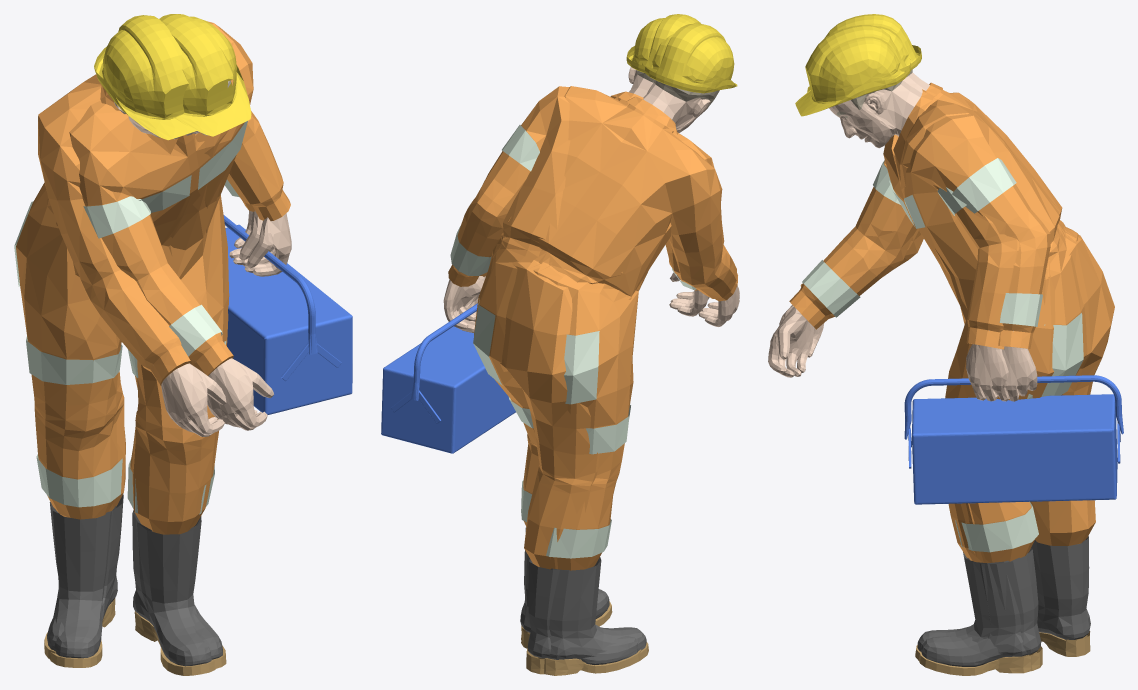
Rendered from funcionarios.glb.
The picture shows the model from 3 angles, left to right: view 1: azimuth 30°, elevation 25°; view 2: azimuth 150°, elevation 25°; view 3: azimuth 270°, elevation 25°; orthographic projection. The views are drawn at different scales.
Visible parts, largest first — view 1: funcionario_maleta__auto_16, funcionario__auto_16, funcionario_maleta__auto_19, funcionario_maleta__auto_17, funcionario_maleta__auto_14, funcionario__auto_14, funcionario__auto_11, funcionario_maleta__auto_11, funcionario__auto_12, funcionario_maleta__auto_12, funcionario_maleta__auto_18, funcionario__auto_18; view 2: funcionario__auto_16, funcionario_maleta__auto_16, funcionario_maleta__auto_19, funcionario_maleta__auto_17, funcionario_maleta__auto_14, funcionario__auto_11, funcionario__auto_14, funcionario__auto_12, funcionario_maleta__auto_12, funcionario_maleta__auto_11, funcionario__auto_18, funcionario_maleta__auto_18 (+1 smaller); view 3: funcionario_maleta__auto_16, funcionario_maleta__auto_19, funcionario__auto_16, funcionario_maleta__auto_17, funcionario__auto_14, funcionario_maleta__auto_12, funcionario_maleta__auto_11, funcionario_maleta__auto_14, funcionario__auto_12, funcionario__auto_11, funcionario__auto_18, funcionario_maleta__auto_18.
Boxes of the visible parts, bbox=[...] form: funcionario_maleta__auto_16: bbox=[16, 21, 254, 519]; funcionario__auto_16: bbox=[38, 74, 290, 534]; funcionario_maleta__auto_19: bbox=[223, 215, 352, 414]; funcionario_maleta__auto_17: bbox=[14, 121, 247, 514]; funcionario_maleta__auto_14: bbox=[49, 502, 222, 659]; funcionario__auto_14: bbox=[47, 494, 211, 666]; funcionario__auto_11: bbox=[94, 15, 196, 140]; funcionario_maleta__auto_11: bbox=[159, 14, 251, 136]; funcionario__auto_12: bbox=[114, 102, 291, 436]; funcionario_maleta__auto_12: bbox=[185, 131, 274, 430]; funcionario_maleta__auto_18: bbox=[49, 611, 226, 668]; funcionario__auto_18: bbox=[44, 598, 215, 675]; funcionario__auto_16: bbox=[474, 86, 737, 569]; funcionario_maleta__auto_16: bbox=[448, 86, 714, 570]; funcionario_maleta__auto_19: bbox=[381, 303, 515, 453]; funcionario_maleta__auto_17: bbox=[450, 125, 696, 558]; funcionario_maleta__auto_14: bbox=[520, 527, 646, 659]; funcionario__auto_11: bbox=[642, 23, 737, 93]; funcionario__auto_14: bbox=[520, 559, 638, 665]; funcionario__auto_12: bbox=[459, 82, 739, 326]; funcionario_maleta__auto_12: bbox=[443, 67, 709, 332]; funcionario_maleta__auto_11: bbox=[626, 14, 700, 72]; funcionario__auto_18: bbox=[521, 601, 641, 674]; funcionario_maleta__auto_18: bbox=[521, 627, 648, 675]; funcionario_maleta__auto_16: bbox=[789, 89, 1087, 562]; funcionario_maleta__auto_19: bbox=[904, 375, 1123, 504]; funcionario__auto_16: bbox=[800, 82, 1114, 562]; funcionario_maleta__auto_17: bbox=[802, 158, 1083, 552]; funcionario__auto_14: bbox=[917, 536, 1090, 656]; funcionario_maleta__auto_12: bbox=[768, 80, 1037, 401]; funcionario_maleta__auto_11: bbox=[795, 25, 911, 116]; funcionario_maleta__auto_14: bbox=[921, 539, 1085, 666]; funcionario__auto_12: bbox=[779, 72, 1008, 401]; funcionario__auto_11: bbox=[807, 14, 921, 92]; funcionario__auto_18: bbox=[915, 631, 1090, 673]; funcionario_maleta__auto_18: bbox=[918, 635, 1087, 675].
Bounding box in the file's own units: 0.7487 × 1.68 × 0.8892.
